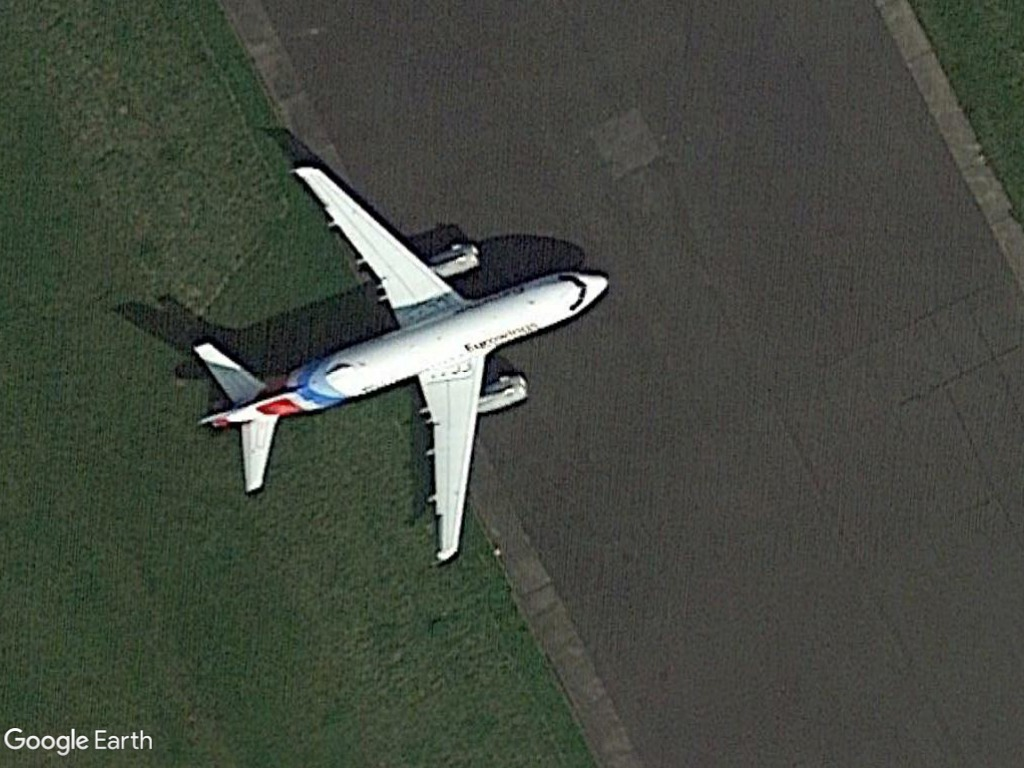airliner: (182, 157, 620, 574)
